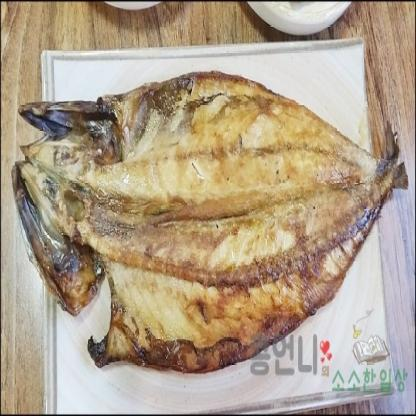Peixe: (0, 84, 416, 369)
